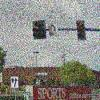traffic lights: (76, 18, 87, 40)
